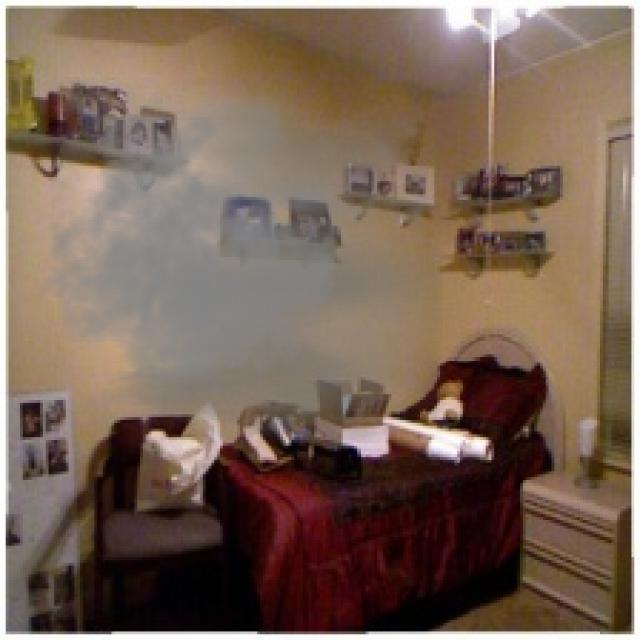smoke: (37, 77, 443, 443)
